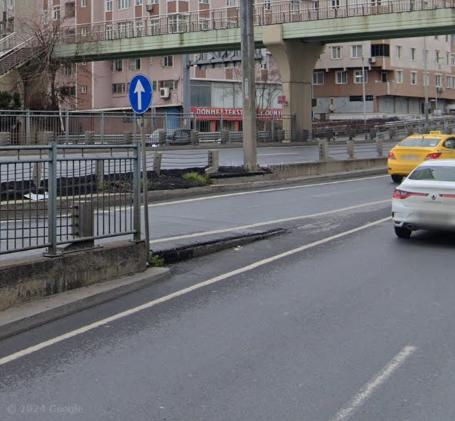forward: (130, 74, 152, 112)
